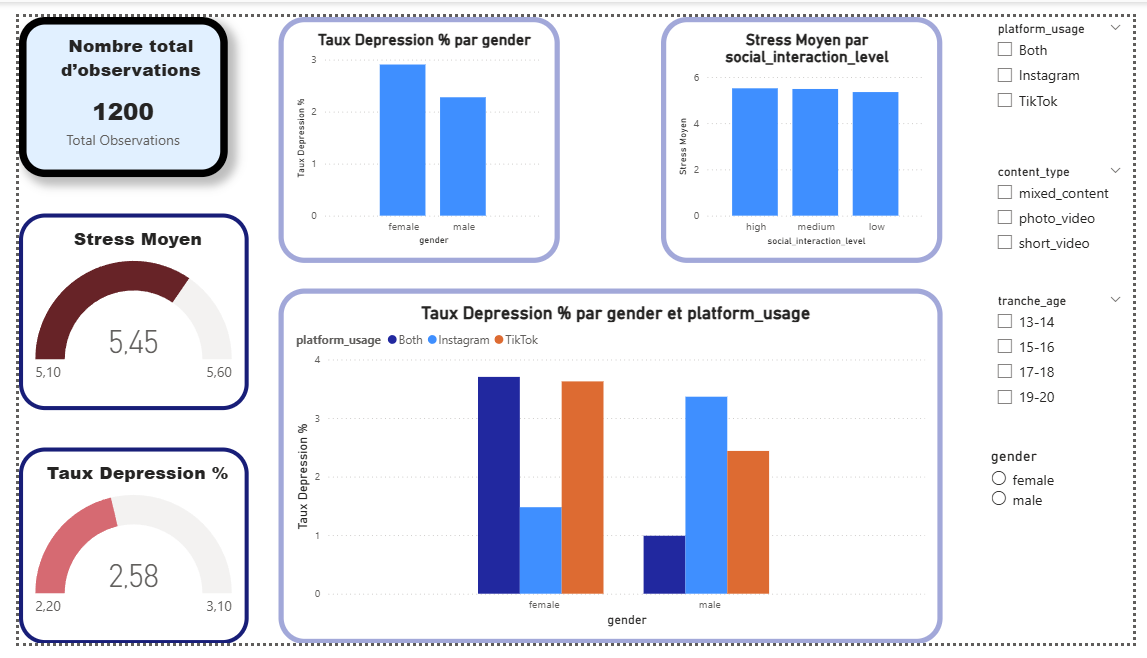

Layout of this report page (visuals, bound fields, positions):
{"tool":"powerbi","page":{"name":"Genre et interaction sociale","canvas":[1280,720],"ordinal":2},"visuals":[{"type":"gauge","fields":{"Y":["public fait_sante_mentale.Stress Moyen"]},"box":[0,226,264,226],"z":0},{"type":"gauge","fields":{"Y":["public fait_sante_mentale.Taux Depression %"]},"box":[0,494,264,226],"z":1000},{"type":"card","title":"Nombre total d’observations","fields":{"Values":["public fait_sante_mentale.Total Observations"]},"box":[0,0,240,184],"z":2000},{"type":"clusteredColumnChart","fields":{"Category":["public dim_gender.gender"],"Y":["public fait_sante_mentale.Taux Depression %"]},"box":[298.5,0,323.5,282.4],"z":3000},{"type":"clusteredColumnChart","fields":{"Category":["public dim_social_interaction.social_interaction_level"],"Y":["public fait_sante_mentale.Stress Moyen"]},"box":[738.2,0,323.5,282.4],"z":4000},{"type":"clusteredColumnChart","fields":{"Category":["public dim_gender.gender"],"Y":["public fait_sante_mentale.Taux Depression %"],"Series":["public dim_platform.platform_usage"]},"box":[298.5,311.8,763.2,408.8],"z":5000},{"type":"slicer","fields":{"Values":["public dim_platform.platform_usage"]},"box":[1111.8,0,167.6,123.5],"z":6000},{"type":"slicer","fields":{"Values":["public dim_platform.content_type"]},"box":[1111.8,163.2,167.6,126.5],"z":7000},{"type":"slicer","fields":{"Values":["public dim_age.tranche_age"]},"box":[1111.8,311.8,167.6,155.9],"z":8000},{"type":"listSlicer","fields":{"Values":["public dim_gender.gender"]},"box":[1111.8,494.1,167.6,216.2],"z":9000}]}

Visuals, with their boxes in screenshot pixels (x1, y1, x2, y2), scaled from the page's 1280x720 canvas onto the 1147x658 screenshot:
gauge - public fait_sante_mentale.Stress Moyen: x1=0, y1=207, x2=237, y2=413
gauge - public fait_sante_mentale.Taux Depression %: x1=0, y1=451, x2=237, y2=657
"Nombre total d’observations" card: x1=0, y1=0, x2=215, y2=168
clusteredColumnChart - public dim_gender.gender x public fait_sante_mentale.Taux Depression %: x1=267, y1=0, x2=557, y2=258
clusteredColumnChart - public dim_social_interaction.social_interaction_level x public fait_sante_mentale.Stress Moyen: x1=661, y1=0, x2=951, y2=258
clusteredColumnChart - public dim_gender.gender x public fait_sante_mentale.Taux Depression %: x1=267, y1=285, x2=951, y2=657
slicer - public dim_platform.platform_usage: x1=996, y1=0, x2=1146, y2=113
slicer - public dim_platform.content_type: x1=996, y1=149, x2=1146, y2=265
slicer - public dim_age.tranche_age: x1=996, y1=285, x2=1146, y2=427
listSlicer - public dim_gender.gender: x1=996, y1=452, x2=1146, y2=649
